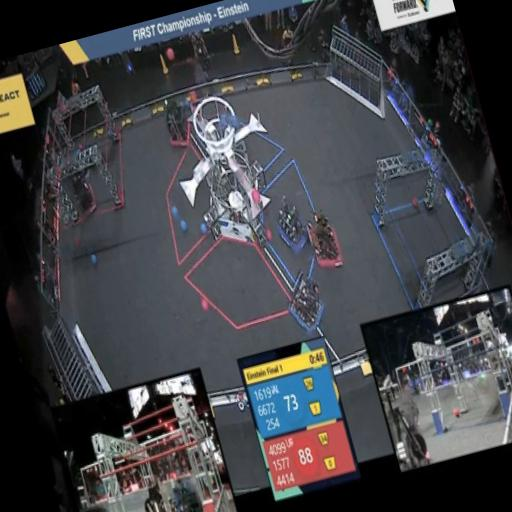robot: (276, 264, 338, 339), (298, 202, 346, 276), (265, 187, 314, 259), (152, 88, 198, 153), (59, 158, 104, 224)
